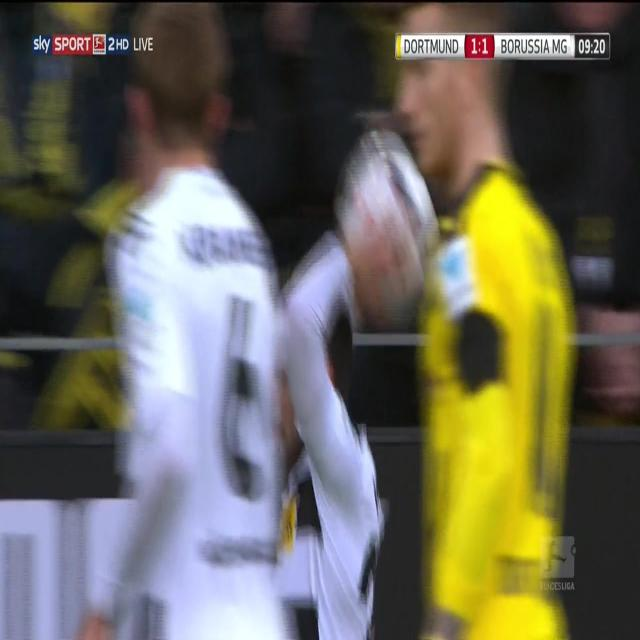Ball: (334, 128, 436, 322)
Player: (103, 3, 292, 640), (396, 0, 584, 636), (276, 224, 388, 638)
